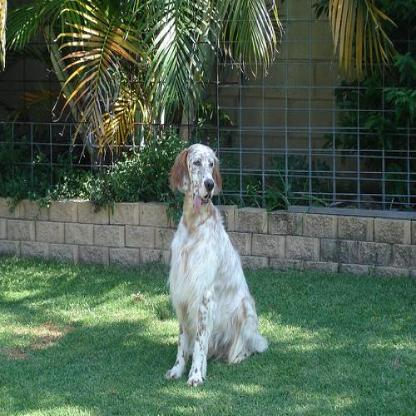English_setter: (164, 139, 270, 389)
